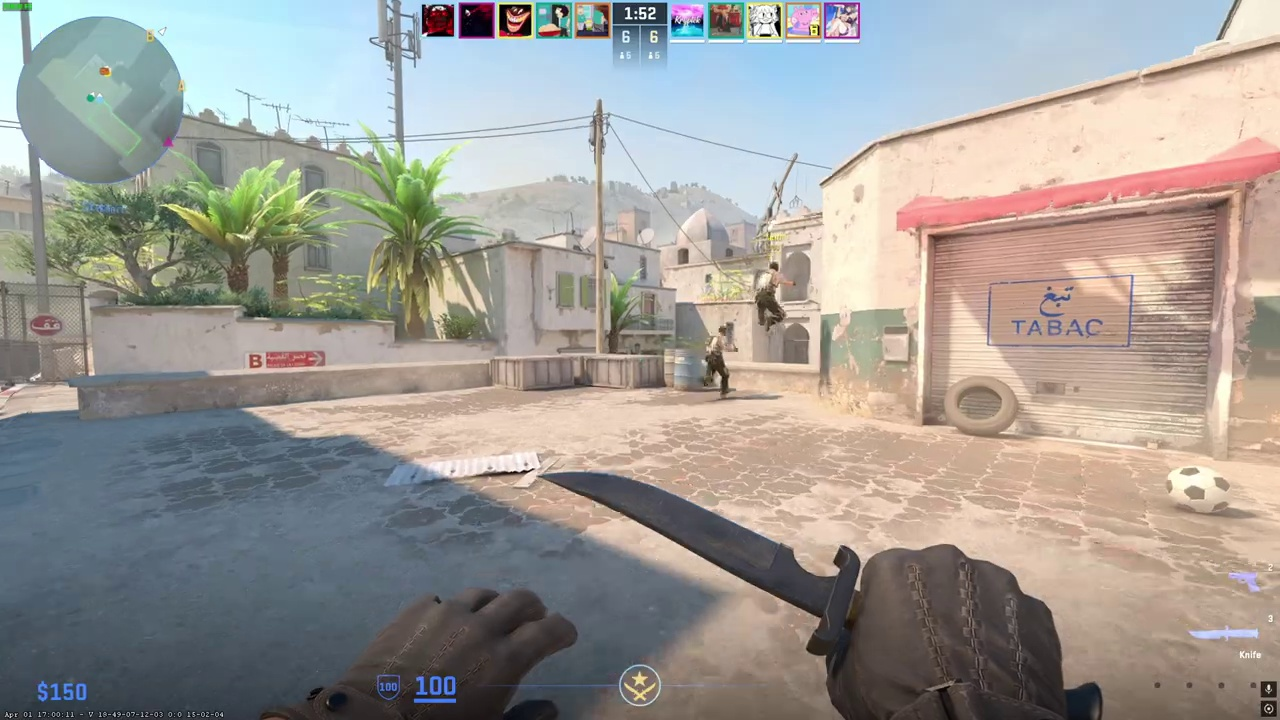Terrorist: (703, 325, 735, 397), (756, 262, 786, 331)
